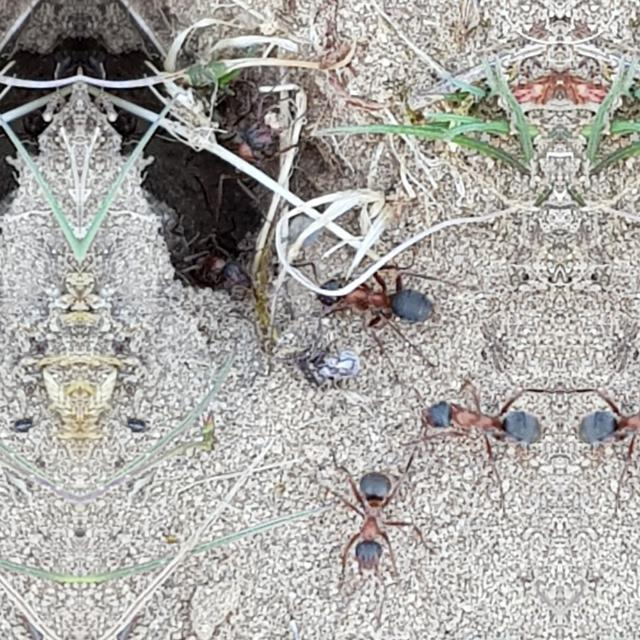Formica: (267, 235, 443, 372), (306, 441, 438, 599), (390, 362, 560, 471), (560, 360, 640, 470)
